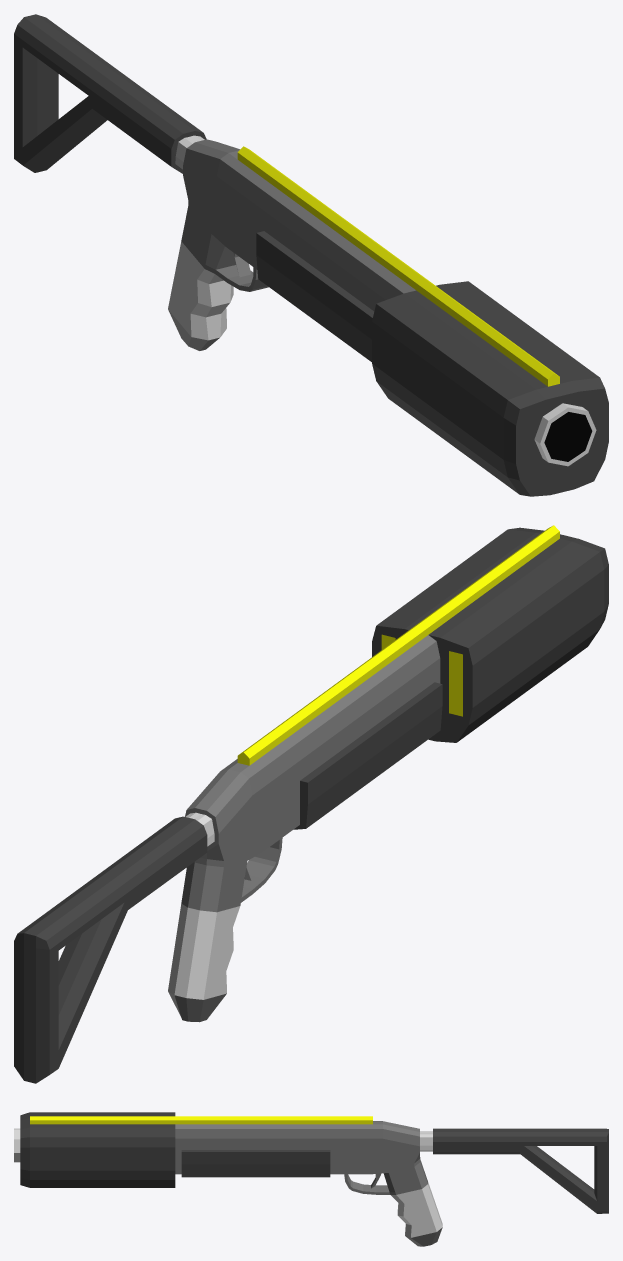
File: ShotGun.fbx
The picture shows the model from 3 angles, top to bottom: view 1: azimuth 30°, elevation 25°; view 2: azimuth 150°, elevation 25°; view 3: azimuth 270°, elevation 25°; orthographic projection. The views are drawn at different scales.
Parts seen in each view (by area): view 1: SG; view 2: SG; view 3: SG.
Part boxes in pixels (box(x1,y1,x2,y2)): SG: box(14, 14, 608, 496); SG: box(14, 525, 608, 1083); SG: box(14, 1112, 608, 1246).
Size of the model in its own units: 9.99 by 22.21 by 92.54.
